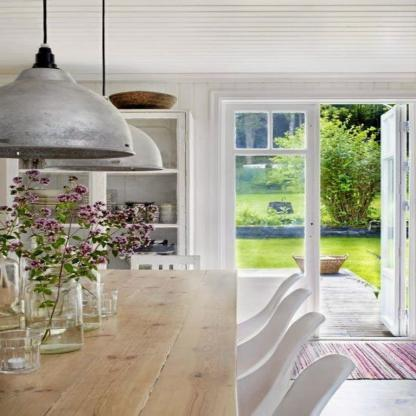vase: (22, 263, 84, 352), (63, 264, 100, 331)
